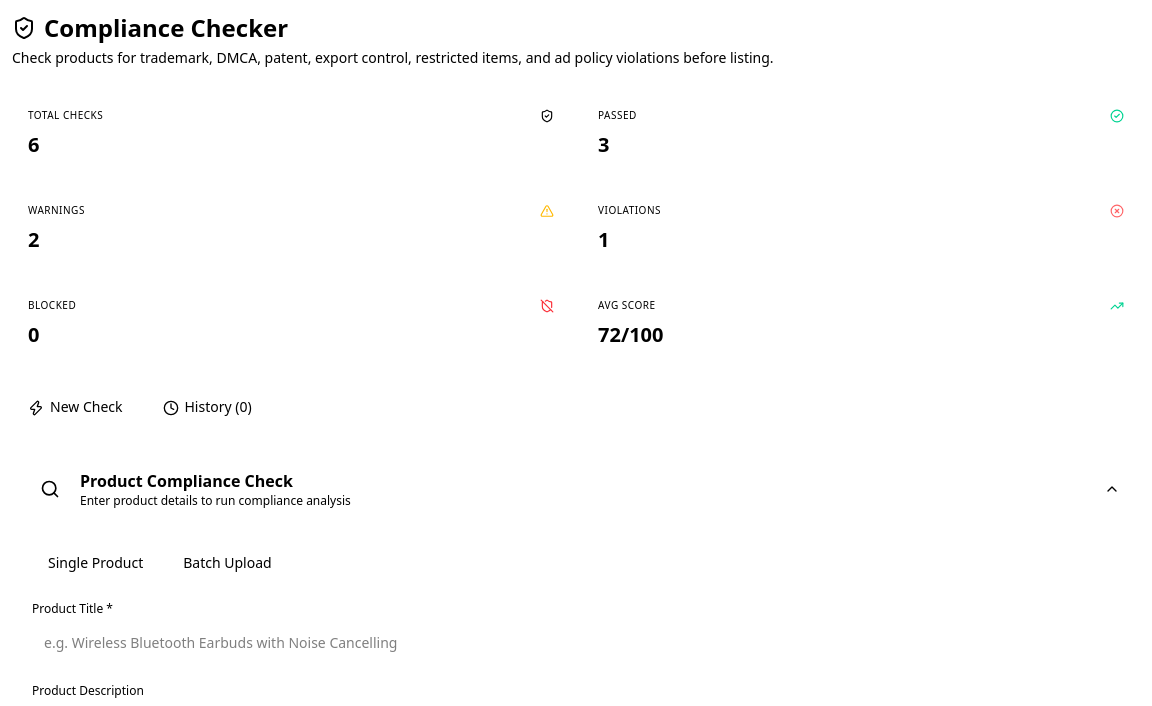
it: CompliancePage › shows empty history state
Click the button "History (0)": (207, 407) [146,389,268,425]
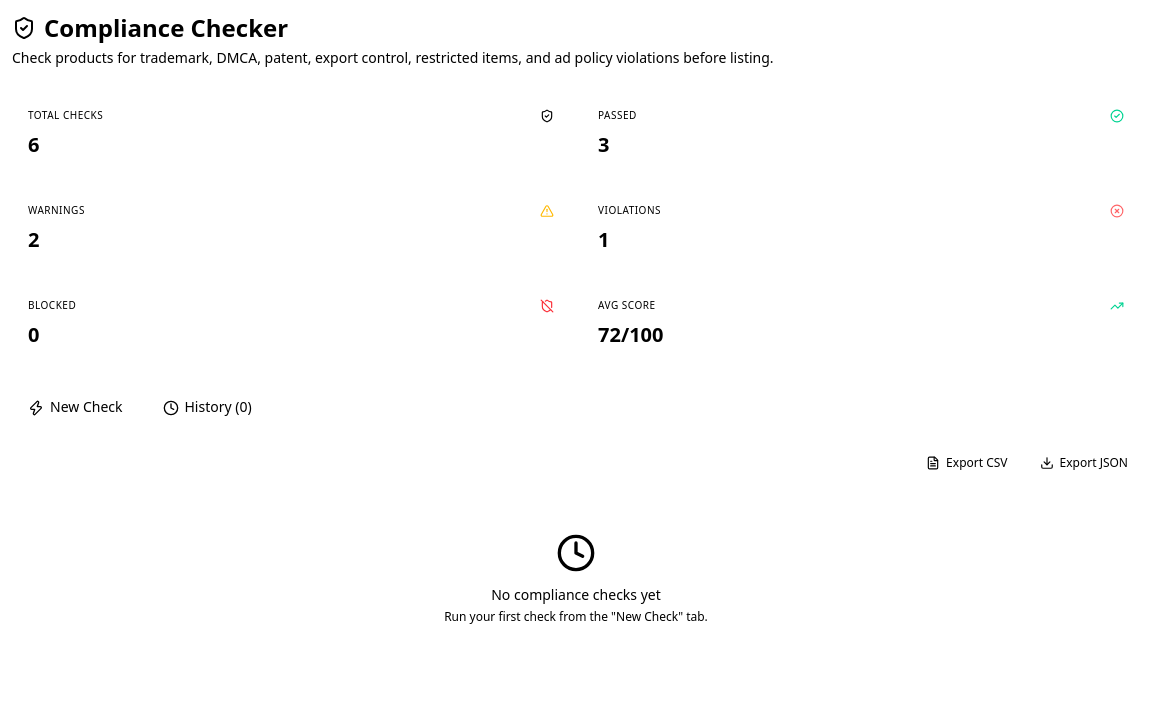
Expected: the text "No compliance checks yet" is shown, [491,585,661,604]
